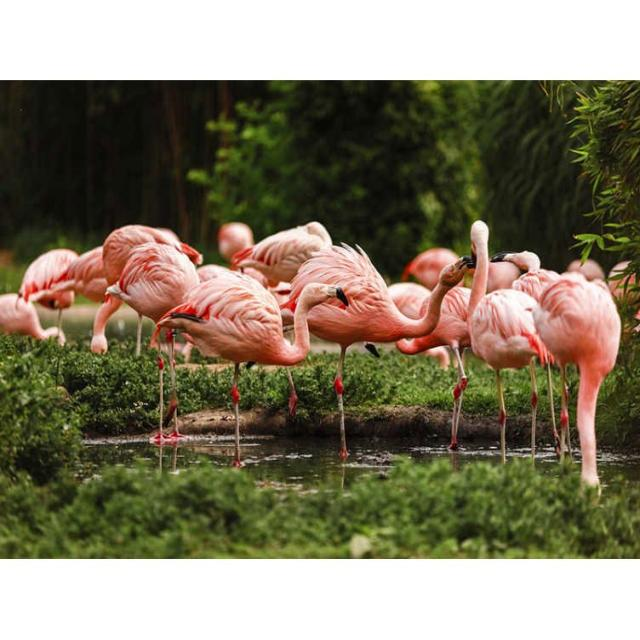flamingo: (157, 271, 348, 445), (285, 243, 476, 407), (468, 220, 554, 460), (533, 273, 621, 486), (108, 242, 200, 323)
